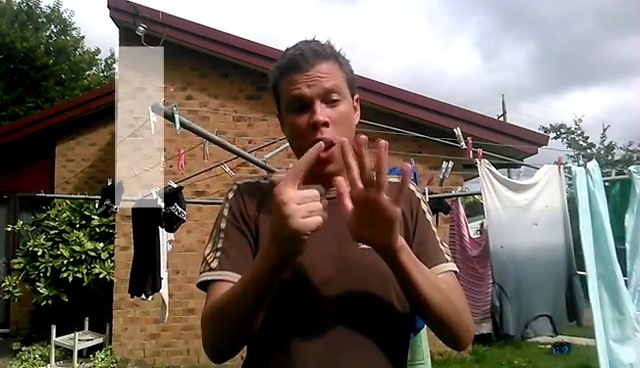I: (256, 129, 418, 271)
